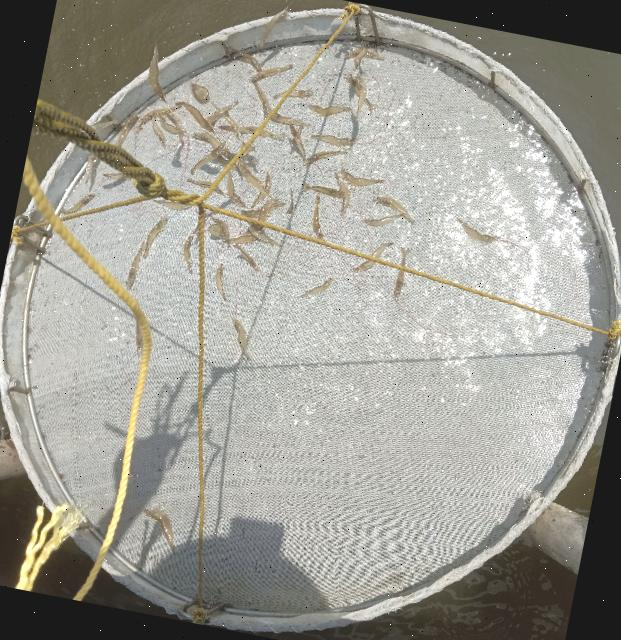shrimp: (234, 158, 275, 204), (141, 507, 174, 555), (344, 73, 380, 114), (369, 196, 414, 226), (352, 242, 394, 273), (190, 140, 226, 175), (174, 102, 214, 133), (210, 101, 239, 142), (142, 212, 167, 259), (260, 10, 289, 50), (191, 131, 232, 158), (456, 218, 500, 243), (137, 106, 181, 129), (125, 241, 145, 290), (264, 107, 310, 128), (393, 247, 411, 300), (226, 45, 262, 71), (339, 167, 385, 186), (205, 100, 237, 127), (231, 316, 250, 361), (232, 243, 260, 273), (250, 170, 271, 210), (245, 201, 271, 233), (302, 148, 348, 166), (225, 170, 246, 208), (249, 64, 293, 82), (236, 126, 285, 142), (299, 276, 333, 299), (59, 192, 94, 214), (181, 229, 197, 275), (116, 111, 137, 146), (147, 64, 166, 102), (288, 124, 306, 163), (164, 113, 184, 148), (223, 227, 266, 243), (185, 178, 223, 196), (334, 173, 350, 215), (238, 203, 286, 217), (307, 134, 358, 147), (354, 72, 367, 121), (247, 227, 280, 246), (249, 80, 269, 111), (301, 183, 342, 198), (306, 103, 351, 116), (360, 214, 403, 227), (150, 112, 165, 149), (311, 195, 323, 240), (158, 114, 185, 134), (152, 199, 192, 210), (214, 262, 225, 301), (346, 49, 384, 60), (210, 217, 228, 239), (83, 154, 96, 184), (271, 90, 313, 99), (102, 172, 131, 181), (285, 187, 294, 215), (190, 84, 206, 99)
